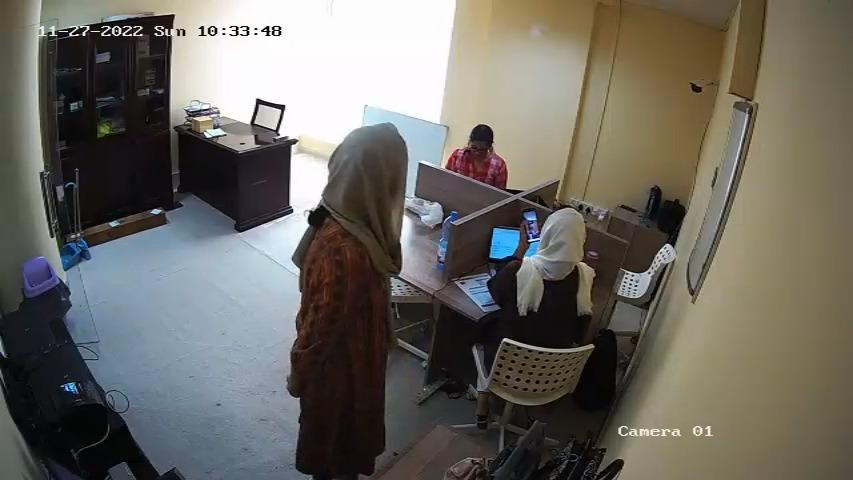no_apron: (333, 251, 393, 457)
